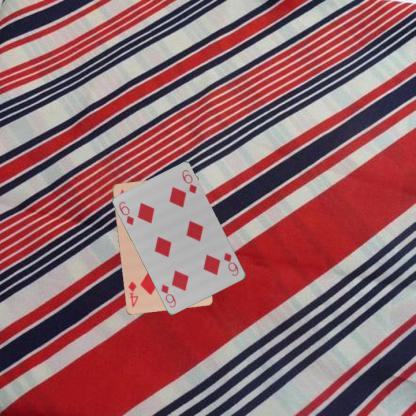6d: (116, 199, 135, 226), (222, 250, 240, 277)
